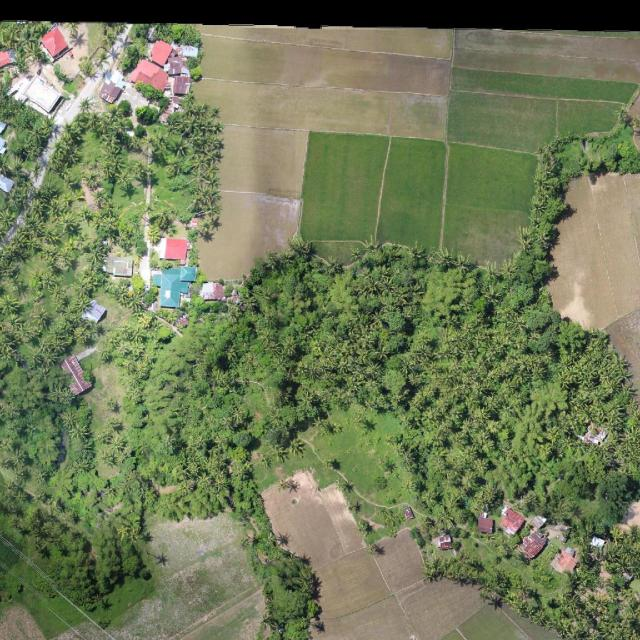agricultural_land: (550, 174, 640, 399), (134, 522, 264, 639)
building: (0, 24, 200, 124), (149, 263, 203, 312), (105, 257, 133, 277)
greenland: (140, 99, 229, 242)
